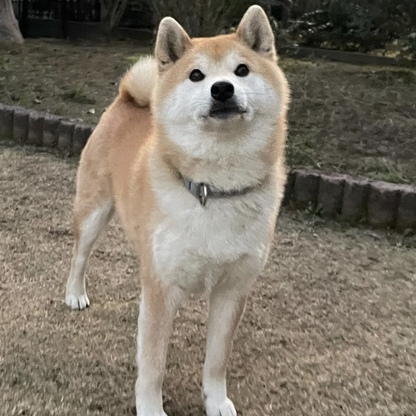shiba: (64, 2, 296, 416)
